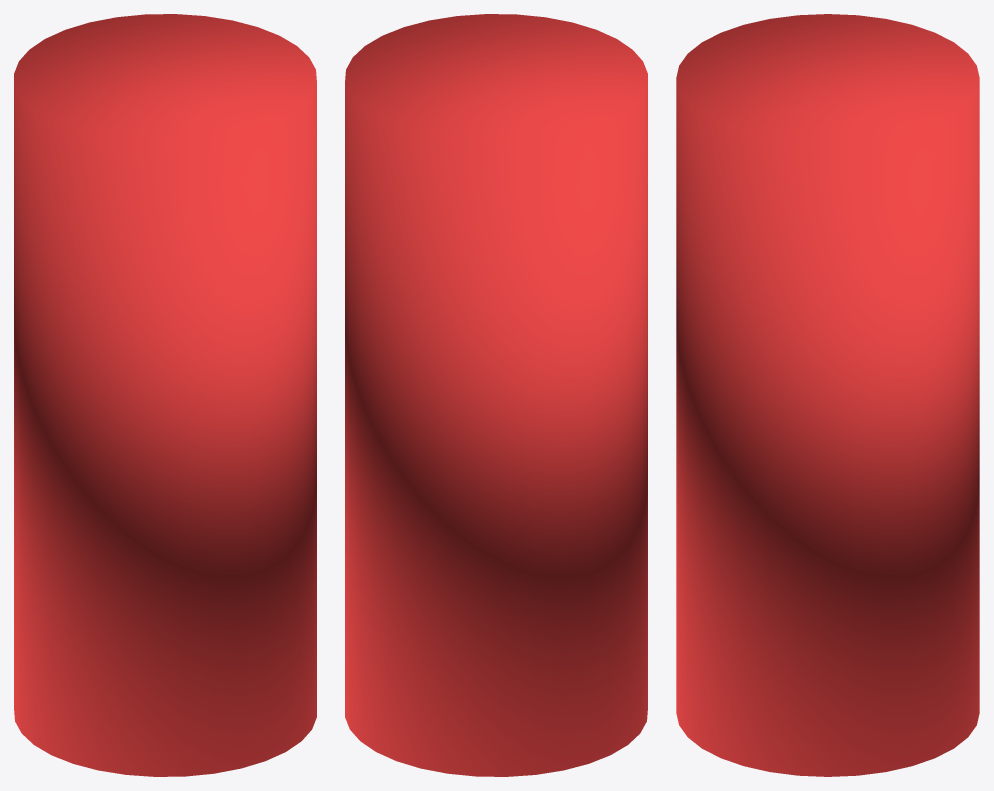
Rendered from SEDAN_Suspension_Spring_RL.glb.
3 views of the same model, side by side, from view 1: azimuth 30°, elevation 25°; view 2: azimuth 150°, elevation 25°; view 3: azimuth 270°, elevation 25° (orthographic).
Parts seen in each view (by area): view 1: SEDAN_Suspension_Spring_RL; view 2: SEDAN_Suspension_Spring_RL; view 3: SEDAN_Suspension_Spring_RL.
Boxes of the visible parts, x1,y1,x2,y2 form: SEDAN_Suspension_Spring_RL: [14, 14, 316, 776]; SEDAN_Suspension_Spring_RL: [345, 14, 647, 776]; SEDAN_Suspension_Spring_RL: [676, 14, 979, 776].
Bounding box in the file's own units: 0.104 × 0.24 × 0.104.
